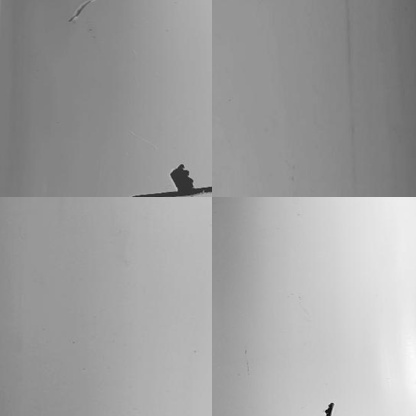kongdong: (134, 188, 217, 198), (168, 162, 198, 188), (322, 403, 334, 413)
